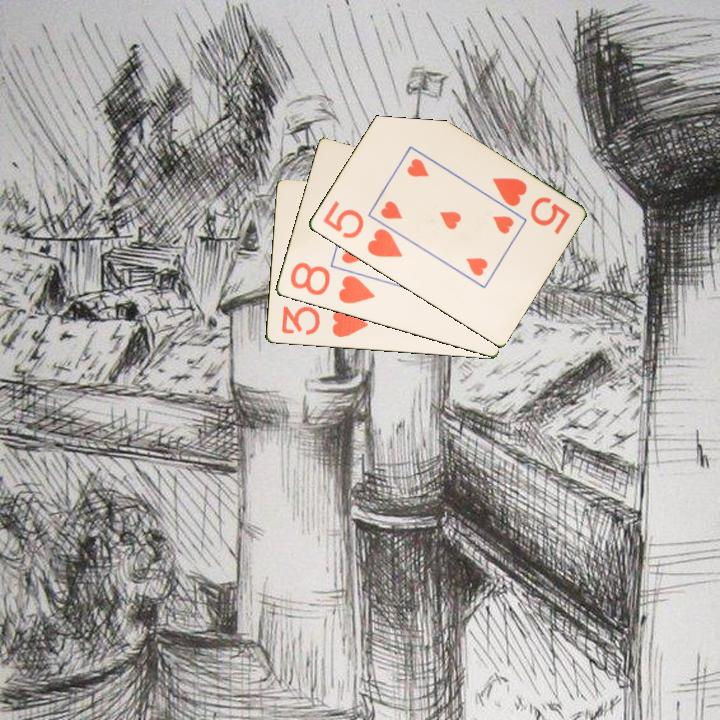3h: (277, 303, 370, 341)
5h: (319, 197, 405, 261), (488, 174, 573, 238)
8h: (286, 259, 378, 307)
